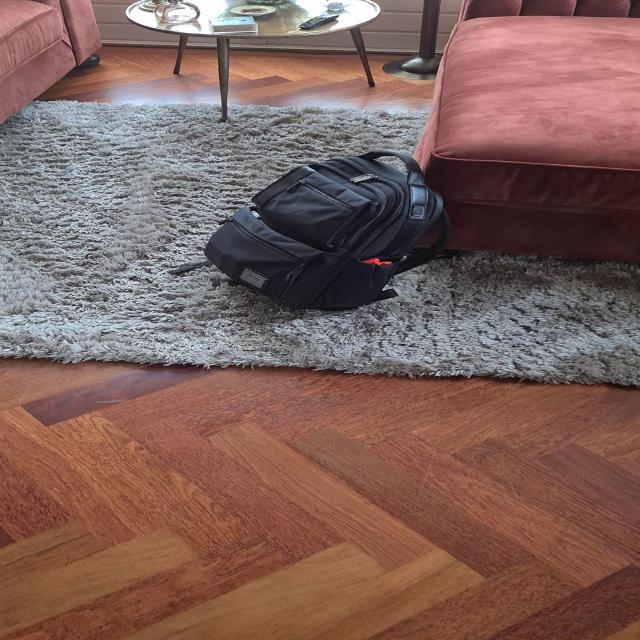backpack: (197, 147, 461, 315)
